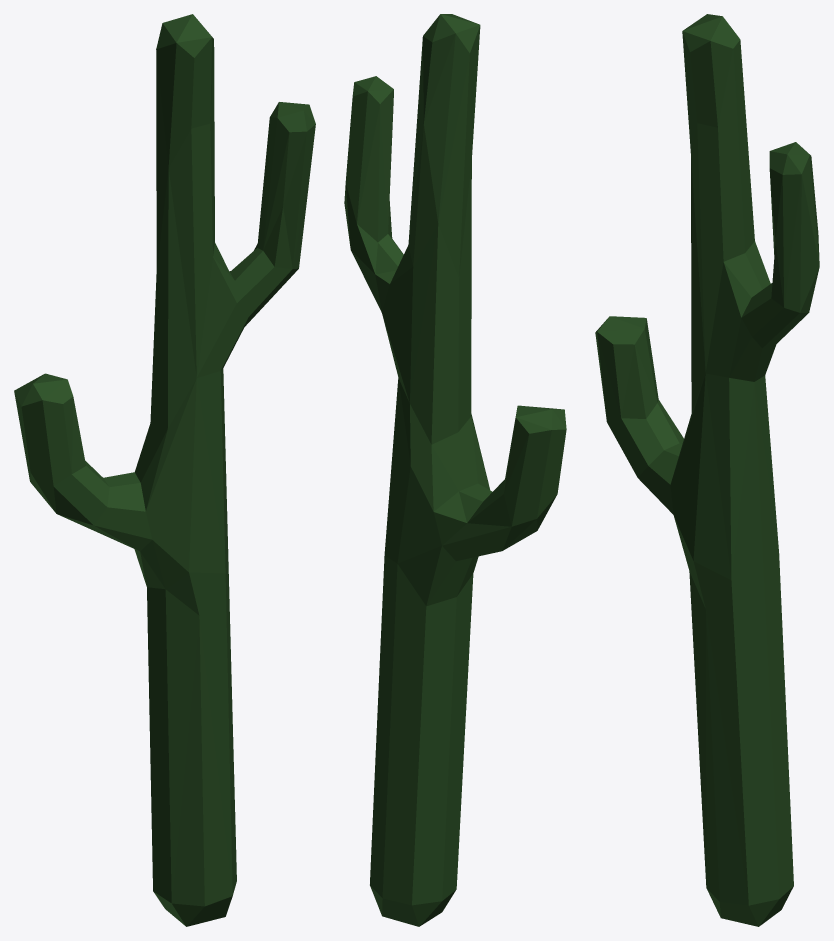
The model's file is deserttile.fbx.
3 views of the same model, side by side, from view 1: azimuth 30°, elevation 25°; view 2: azimuth 150°, elevation 25°; view 3: azimuth 330°, elevation 25° (orthographic). The views are drawn at different scales.
Visible parts, largest first — view 1: Cube; view 2: Cube; view 3: Cube.
Part boxes in pixels (left/top/right/bottom): Cube: left=14, top=14, right=315, bottom=926; Cube: left=344, top=14, right=566, bottom=926; Cube: left=595, top=14, right=819, bottom=926.
Size of what is drawn, in the model's own units: 17.66 by 61.16 by 7.85.
